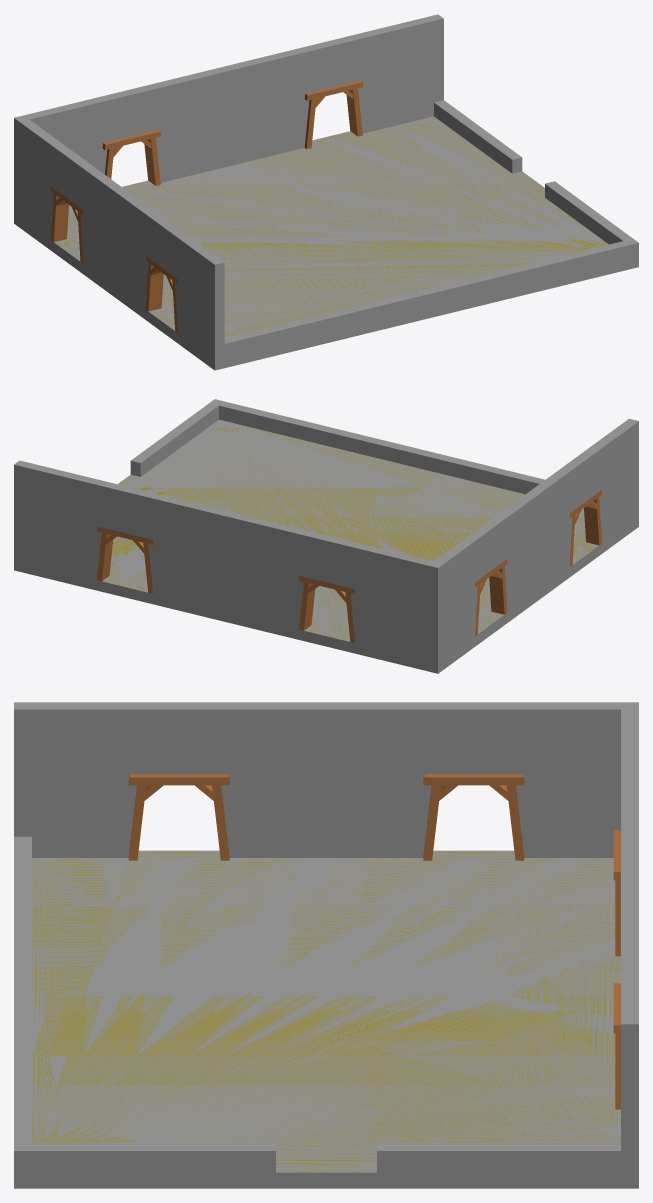
The model's file is salaGrandeCuatroPuertas.fbx.
3 renders of one model, top to bottom at view 1: azimuth 30°, elevation 25°; view 2: azimuth 150°, elevation 25°; view 3: azimuth 270°, elevation 25°, orthographic. The views are drawn at different scales.
Visible parts, largest first — view 1: group_1, group_2, group_3, group_5, group_4, group_0; view 2: group_1, group_2, group_5, group_3, group_0, group_4; view 3: group_2, group_1, group_0, group_4, group_3, group_5.
Part boxes in pixels (x1,y1,x2,y2): group_1: (14,14,638,370); group_2: (54,116,608,338); group_3: (304,80,363,149); group_5: (102,129,161,185); group_4: (145,256,177,332); group_0: (51,186,83,263); group_1: (14,399,638,673); group_2: (102,419,598,641); group_5: (299,575,355,642); group_3: (97,526,152,593); group_0: (475,559,507,635); group_4: (569,490,601,566); group_2: (32,850,620,1172); group_1: (14,702,638,1188); group_0: (423,774,524,860); group_4: (128,774,229,860); group_3: (613,983,620,1109); group_5: (613,830,620,956).
Size of the model in its own units: 2560 by 610 by 2100.
